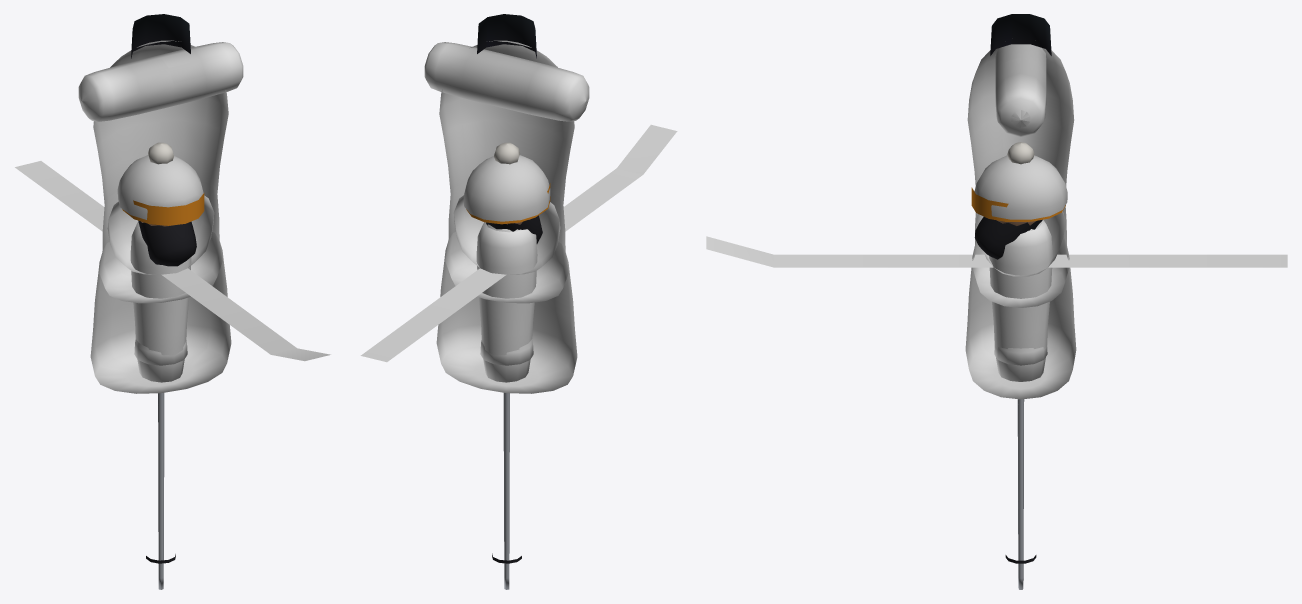
The model's file is skiers_rig.glb.
3 views of the same model, side by side, from view 1: azimuth 30°, elevation 25°; view 2: azimuth 150°, elevation 25°; view 3: azimuth 270°, elevation 25° (orthographic).
Visible parts, largest first — view 1: npcp_torso_a, npcp_torso_b, npcp_thigh, npcp_ski, npcp_head_a, npcp_pelvis, npcp_boot, npcp_pole, npcp_shin, npcp_head_b; view 2: npcp_torso_a, npcp_torso_b, npcp_thigh, npcp_ski, npcp_head_a, npcp_pelvis, npcp_pole, npcp_shin, npcp_boot, npcp_head_b; view 3: npcp_torso_a, npcp_ski, npcp_thigh, npcp_torso_b, npcp_head_a, npcp_boot, npcp_pole, npcp_shin, npcp_pelvis.
Boxes of the visible parts, x1,y1,x2,y2 form: npcp_torso_a: (78,14,243,303); npcp_torso_b: (90,182,231,393); npcp_thigh: (130,221,191,382); npcp_ski: (15,161,330,361); npcp_head_a: (117,155,204,226); npcp_pelvis: (107,195,214,274); npcp_boot: (138,220,196,266); npcp_pole: (146,393,175,589); npcp_shin: (134,339,187,365); npcp_head_b: (148,142,173,164); npcp_torso_a: (424,14,589,303); npcp_torso_b: (436,182,577,393); npcp_thigh: (476,222,537,382); npcp_ski: (360,124,677,362); npcp_head_a: (463,155,550,224); npcp_pelvis: (453,195,560,274); npcp_pole: (492,393,521,589); npcp_shin: (480,225,533,365); npcp_boot: (486,215,542,243); npcp_head_b: (494,142,519,164); npcp_torso_a: (967,14,1074,307); npcp_ski: (706,236,1287,267); npcp_thigh: (989,220,1052,381); npcp_torso_b: (965,207,1076,399); npcp_head_a: (971,155,1067,225); npcp_boot: (974,217,1042,259); npcp_pole: (1005,399,1036,589); npcp_shin: (994,222,1047,365); npcp_pelvis: (976,211,1065,276).
Size of the model in its own units: 0.535 by 1.83 by 1.7.
